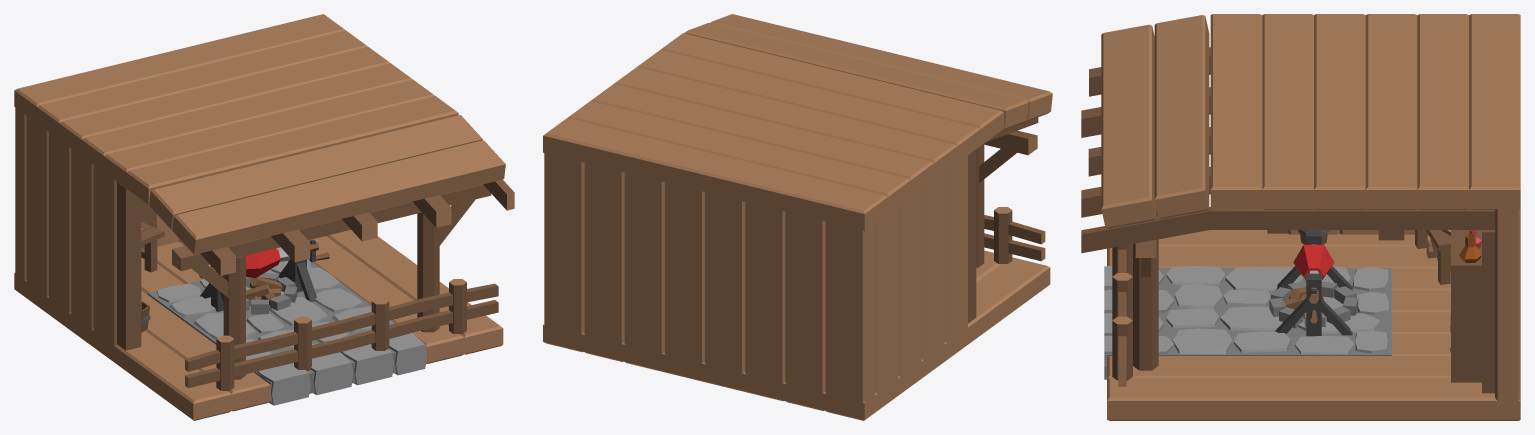
Rendered from Kitchen_Lvl_02_Straight_Left.fbx.
The picture shows the model from 3 angles, left to right: view 1: azimuth 30°, elevation 25°; view 2: azimuth 150°, elevation 25°; view 3: azimuth 270°, elevation 25°; orthographic projection. The views are drawn at different scales.
Parts seen in each view (by area): view 1: Kitchen_Lvl_02_Straight_Left; view 2: Kitchen_Lvl_02_Straight_Left; view 3: Kitchen_Lvl_02_Straight_Left.
Boxes of the visible parts, x1,y1,x2,y2 form: Kitchen_Lvl_02_Straight_Left: (14,14,514,420); Kitchen_Lvl_02_Straight_Left: (543,14,1052,420); Kitchen_Lvl_02_Straight_Left: (1081,14,1520,420).
Bounding box in the file's own units: 8 × 5.05 × 8.5.
